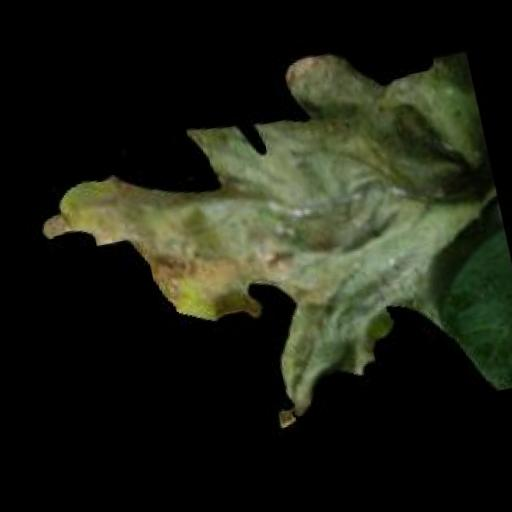Late Blight: (11, 25, 512, 476)
